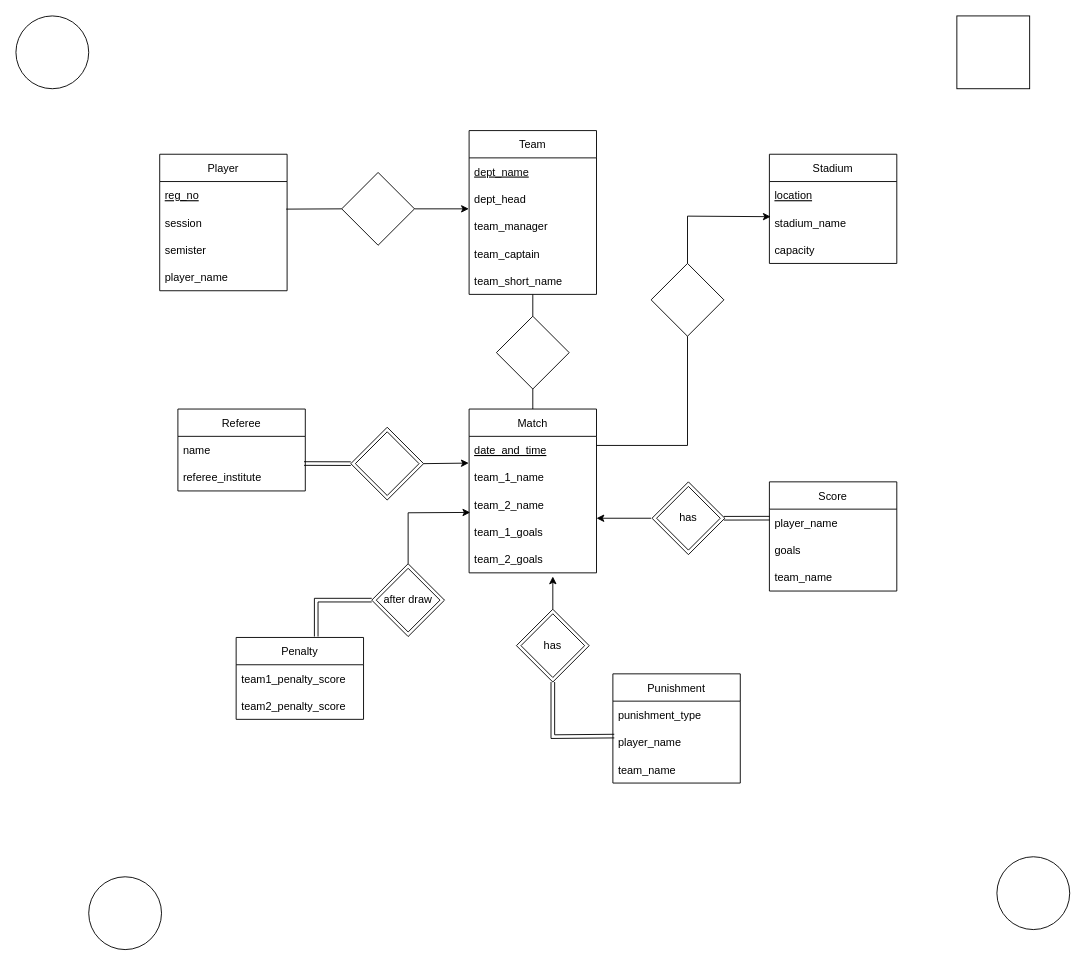
Some shapes in this 1086 by 966 pixel diagram are drawn without their labels. The shapes that lost their labels are listed below. From the top down, each one's centre as x and y in pixels, then its label:
At point (378, 208): "Plays in".
At point (687, 299): "held in".
At point (532, 352): "plays".
At point (386, 463): "officiated by".
